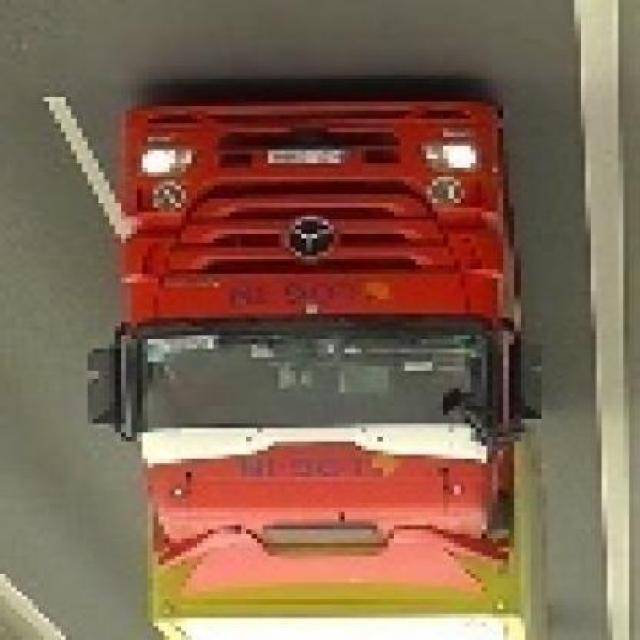truck: (83, 93, 537, 640)
